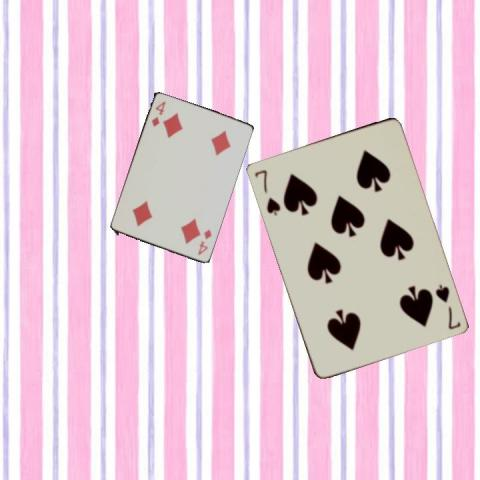4d: (196, 226, 214, 257), (149, 98, 167, 128)
7s: (251, 167, 281, 217), (432, 281, 461, 331)
